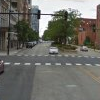crosswalk: (4, 61, 100, 66), (17, 54, 100, 58)
